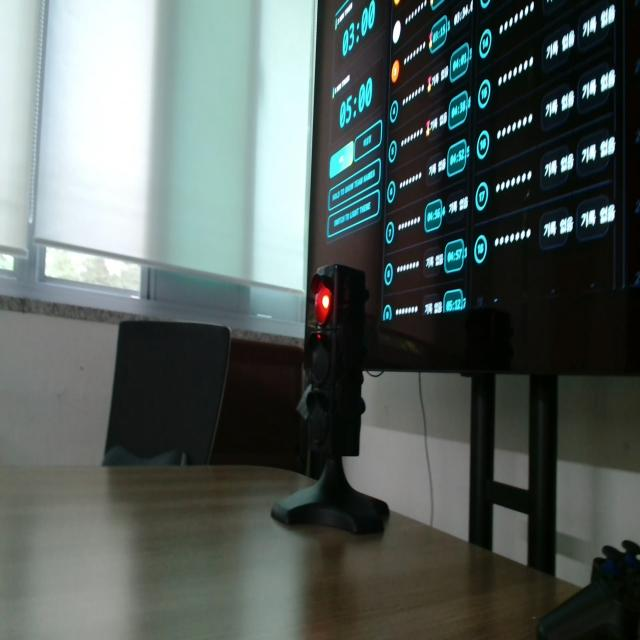red_light: (312, 275, 331, 325), (315, 284, 330, 325), (322, 294, 330, 309)
